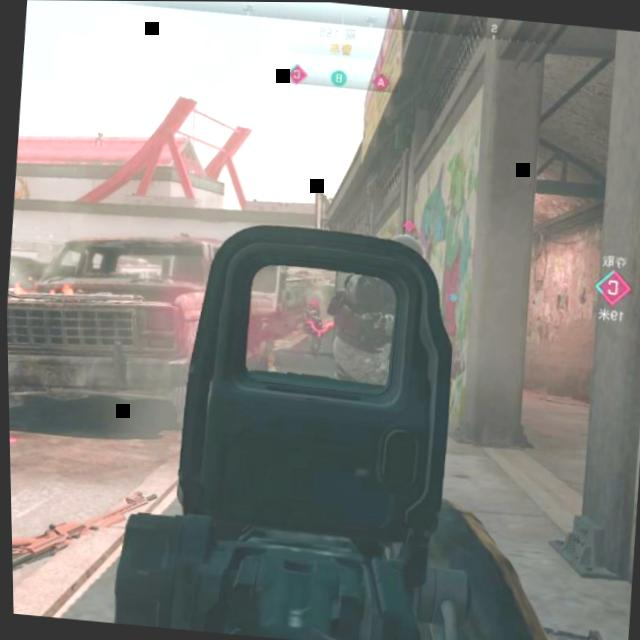MW2_body: (326, 277, 397, 384), (294, 296, 325, 356)
